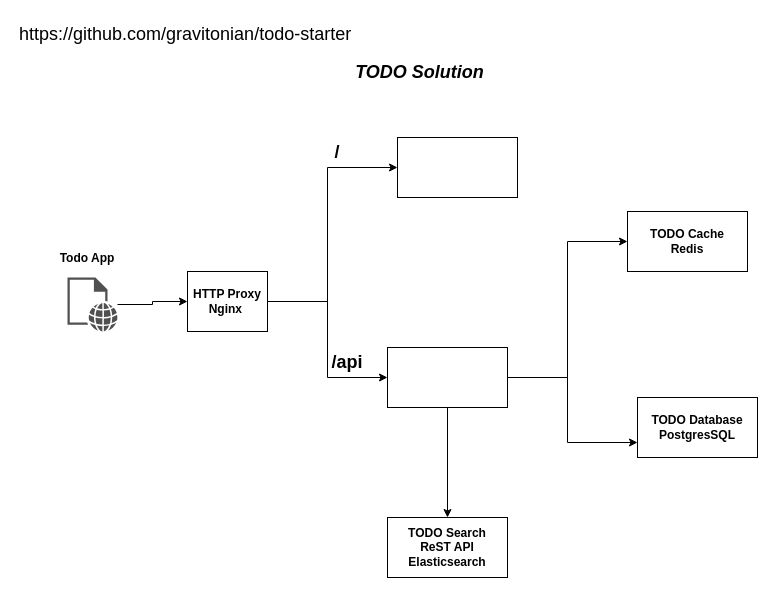
Some shapes in this 775 by 595 pixel diagram are drawn without their labels. The centre of each missing label's shape, as x and y in pixels:
TODO Client Angular Nginx: pixel 457 167
TODO Server ReST API Node.js: pixel 447 377
